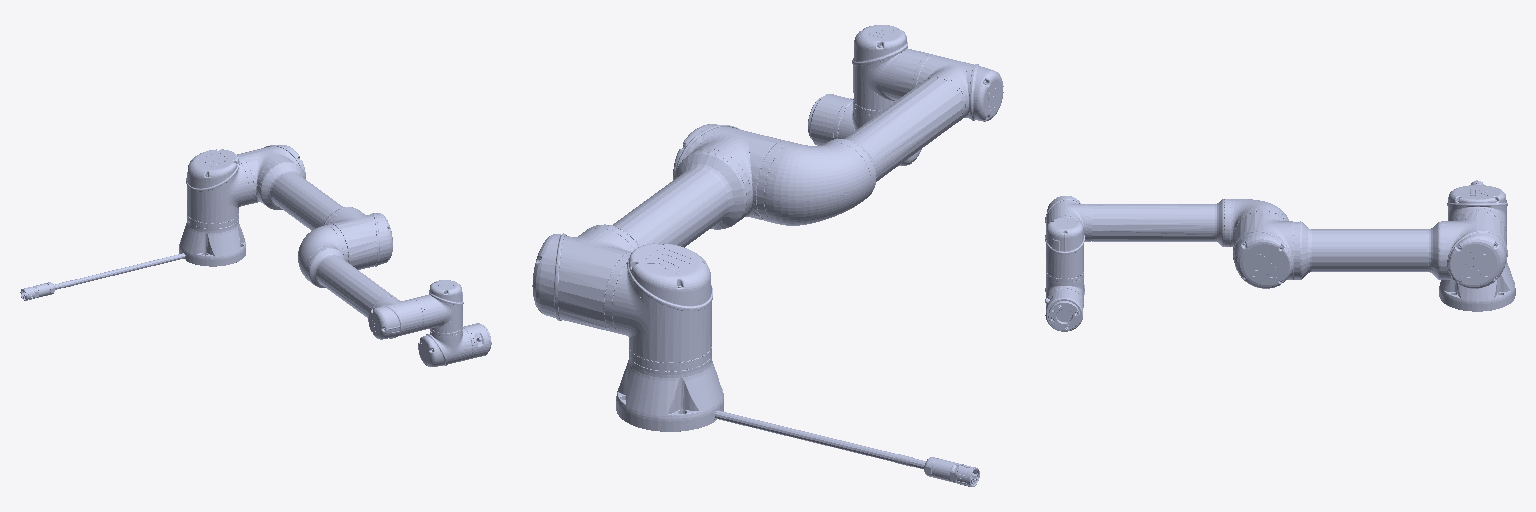
URDF robot description (e-Series_UR5e):
<?xml version="1.0" encoding="utf-8"?>
<!-- This URDF was automatically created by SolidWorks to URDF Exporter! Originally created by [author] ([email redacted]) 
     Commit Version: 1.6.0-4-g7f85cfe  Build Version: 1.6.7995.38578
     For more information, please see http://wiki.ros.org/sw_urdf_exporter -->
<robot
  name="e-Series_UR5e">
  <link
    name="base_link">
    <inertial>
      <origin
        xyz="-0.0382835893779394 1.4258737995377E-05 0.0563056611115651"
        rpy="0 0 0" />
      <mass
        value="0.766524257023776" />
      <inertia
        ixx="0.00125261061098738"
        ixy="8.6453222918811E-08"
        ixz="-2.38534337560383E-05"
        iyy="0.00169283480154227"
        iyz="5.66384524049433E-07"
        izz="0.00208131132900855" />
    </inertial>
    <visual>
      <origin
        xyz="0 0 0"
        rpy="0 0 0" />
      <geometry>
        <mesh
          filename="package://e-Series_UR5e/meshes/base_link.STL" />
      </geometry>
      <material
        name="">
        <color
          rgba="0.792156862745098 0.819607843137255 0.933333333333333 1" />
      </material>
    </visual>
    <collision>
      <origin
        xyz="0 0 0"
        rpy="0 0 0" />
      <geometry>
        <mesh
          filename="package://e-Series_UR5e/meshes/base_link.STL" />
      </geometry>
    </collision>
  </link>
  <link
    name="link_1">
    <inertial>
      <origin
        xyz="-4.03585293370935E-07 -0.01091081401271 0.0648788846793565"
        rpy="0 0 0" />
      <mass
        value="1.60777403315694" />
      <inertia
        ixx="0.0039244708802927"
        ixy="-7.56848409825835E-08"
        ixz="-4.19930606347928E-08"
        iyy="0.00344767395419422"
        iyz="9.48081150049484E-05"
        izz="0.00334247367530209" />
    </inertial>
    <visual>
      <origin
        xyz="0 0 0"
        rpy="0 0 0" />
      <geometry>
        <mesh
          filename="package://e-Series_UR5e/meshes/link_1.STL" />
      </geometry>
      <material
        name="">
        <color
          rgba="0.792156862745098 0.819607843137255 0.933333333333333 1" />
      </material>
    </visual>
    <collision>
      <origin
        xyz="0 0 0"
        rpy="0 0 0" />
      <geometry>
        <mesh
          filename="package://e-Series_UR5e/meshes/link_1.STL" />
      </geometry>
    </collision>
  </link>
  <joint
    name="joint_1"
    type="continuous">
    <origin
      xyz="0 0 0.097739"
      rpy="0 0 1.5708" />
    <parent
      link="base_link" />
    <child
      link="link_1" />
    <axis
      xyz="0 0 1" />
  </joint>
  <link
    name="link_2">
    <inertial>
      <origin
        xyz="-0.2124896632942 -2.7566573778115E-06 0.0644633946441775"
        rpy="0 0 0" />
      <mass
        value="3.48194894188692" />
      <inertia
        ixx="0.00741838999556194"
        ixy="4.28837545739631E-06"
        ixz="7.87302897202672E-07"
        iyy="0.141429657593064"
        iyz="1.83888022877102E-07"
        izz="0.140265210675503" />
    </inertial>
    <visual>
      <origin
        xyz="0 0 0"
        rpy="0 0 0" />
      <geometry>
        <mesh
          filename="package://e-Series_UR5e/meshes/link_2.STL" />
      </geometry>
      <material
        name="">
        <color
          rgba="0.792156862745098 0.819607843137255 0.933333333333333 1" />
      </material>
    </visual>
    <collision>
      <origin
        xyz="0 0 0"
        rpy="0 0 0" />
      <geometry>
        <mesh
          filename="package://e-Series_UR5e/meshes/link_2.STL" />
      </geometry>
    </collision>
  </link>
  <joint
    name="joint_2"
    type="continuous">
    <origin
      xyz="0 -0.073446 0.064761"
      rpy="1.5708 0 0" />
    <parent
      link="link_1" />
    <child
      link="link_2" />
    <axis
      xyz="0 0 1" />
  </joint>
  <link
    name="link_3">
    <inertial>
      <origin
        xyz="-0.148140295327253 -2.18715172337069E-06 -0.0564557902972361"
        rpy="0 0 0" />
      <mass
        value="1.78719922779662" />
      <inertia
        ixx="0.00255793300921316"
        ixy="-2.05988630102689E-07"
        ixz="-0.000972879430463373"
        iyy="0.00975641611968272"
        iyz="-1.10026923503296E-07"
        izz="0.00937973947506879" />
    </inertial>
    <visual>
      <origin
        xyz="0 0 0"
        rpy="0 0 0" />
      <geometry>
        <mesh
          filename="package://e-Series_UR5e/meshes/link_3.STL" />
      </geometry>
      <material
        name="">
        <color
          rgba="0.792156862745098 0.819607843137255 0.933333333333333 1" />
      </material>
    </visual>
    <collision>
      <origin
        xyz="0 0 0"
        rpy="0 0 0" />
      <geometry>
        <mesh
          filename="package://e-Series_UR5e/meshes/link_3.STL" />
      </geometry>
    </collision>
  </link>
  <joint
    name="joint_3"
    type="continuous">
    <origin
      xyz="-0.425 0 0"
      rpy="0 0 0" />
    <parent
      link="link_2" />
    <child
      link="link_3" />
    <axis
      xyz="0 0 1" />
  </joint>
  <link
    name="link_4">
    <inertial>
      <origin
        xyz="-8.00997962902006E-06 0.00254765403459664 0.0415473672594848"
        rpy="0 0 0" />
      <mass
        value="0.658206626839737" />
      <inertia
        ixx="0.00109191688287393"
        ixy="1.19410397079724E-07"
        ixz="2.69565838819593E-07"
        iyy="0.000884746126443946"
        iyz="-2.58942779151137E-05"
        izz="0.000686112647130512" />
    </inertial>
    <visual>
      <origin
        xyz="0 0 0"
        rpy="0 0 0" />
      <geometry>
        <mesh
          filename="package://e-Series_UR5e/meshes/link_4.STL" />
      </geometry>
      <material
        name="">
        <color
          rgba="0.792156862745098 0.819607843137255 0.933333333333333 1" />
      </material>
    </visual>
    <collision>
      <origin
        xyz="0 0 0"
        rpy="0 0 0" />
      <geometry>
        <mesh
          filename="package://e-Series_UR5e/meshes/link_4.STL" />
      </geometry>
    </collision>
  </link>
  <joint
    name="joint_4"
    type="continuous">
    <origin
      xyz="-0.3922 0 0"
      rpy="0 0 0" />
    <parent
      link="link_3" />
    <child
      link="link_4" />
    <axis
      xyz="0 0 1" />
  </joint>
  <link
    name="link_5">
    <inertial>
      <origin
        xyz="5.5481109853428E-05 -0.00311021342395346 0.0781058578879969"
        rpy="0 0 0" />
      <mass
        value="0.538720215182785" />
      <inertia
        ixx="0.000698087208344804"
        ixy="3.21197044276782E-06"
        ixz="-3.29030595085801E-07"
        iyy="0.000491809143471577"
        iyz="7.55035125846898E-06"
        izz="0.000601190452282659" />
    </inertial>
    <visual>
      <origin
        xyz="0 0 0"
        rpy="0 0 0" />
      <geometry>
        <mesh
          filename="package://e-Series_UR5e/meshes/link_5.STL" />
      </geometry>
      <material
        name="">
        <color
          rgba="0.792156862745098 0.819607843137255 0.933333333333333 1" />
      </material>
    </visual>
    <collision>
      <origin
        xyz="0 0 0"
        rpy="0 0 0" />
      <geometry>
        <mesh
          filename="package://e-Series_UR5e/meshes/link_5.STL" />
      </geometry>
    </collision>
  </link>
  <joint
    name="joint_5"
    type="continuous">
    <origin
      xyz="0 -0.014043 0.059854"
      rpy="1.5708 0 0" />
    <parent
      link="link_4" />
    <child
      link="link_5" />
    <axis
      xyz="0 0 1" />
  </joint>
  <link
    name="tool0">
    <inertial>
      <origin
        xyz="-2.20230284009304E-09 1.80038318347009E-05 0.025011728835113"
        rpy="0 0 0" />
      <mass
        value="0.218934443014081" />
      <inertia
        ixx="0.000120675783994229"
        ixy="2.16459497435196E-09"
        ixz="-4.49238942899841E-13"
        iyy="0.000121384699989552"
        iyz="1.61072230595418E-07"
        izz="0.000150863873550317" />
    </inertial>
    <visual>
      <origin
        xyz="0 0 0"
        rpy="0 0 0" />
      <geometry>
        <mesh
          filename="package://e-Series_UR5e/meshes/tool0.STL" />
      </geometry>
      <material
        name="">
        <color
          rgba="0.792156862745098 0.819607843137255 0.933333333333333 1" />
      </material>
    </visual>
    <collision>
      <origin
        xyz="0 0 0"
        rpy="0 0 0" />
      <geometry>
        <mesh
          filename="package://e-Series_UR5e/meshes/tool0.STL" />
      </geometry>
    </collision>
  </link>
  <joint
    name="joint_6"
    type="continuous">
    <origin
      xyz="-0.00069744 0.046307 0.085657"
      rpy="1.5708 -1.0646 -3.1265" />
    <parent
      link="link_5" />
    <child
      link="tool0" />
    <axis
      xyz="0 0 -1" />
  </joint>
</robot>

--- What the picture shows (computed from the rendered views, not written in the file) ---
Views: 3 orthographic renders of the robot side by side, from view 1: azimuth 30°, elevation 25°; view 2: azimuth 150°, elevation 25°; view 3: azimuth 270°, elevation 25°.
Model e-Series_UR5e with 7 links and 6 joints (6 continuous), rooted at base_link, posed every joint at zero.
Visible links, largest first — view 1: link_2, link_3, link_1, base_link, link_4, link_5, tool0; view 2: link_2, link_3, link_1, base_link, link_4, tool0, link_5; view 3: link_2, link_3, link_4, base_link, link_1, tool0, link_5.
Link boxes in pixels (<box>): link_2: <box>237,145,392,269</box>; link_3: <box>298,224,423,339</box>; link_1: <box>186,149,253,222</box>; base_link: <box>20,214,245,300</box>; link_4: <box>413,280,463,332</box>; link_5: <box>418,328,471,366</box>; tool0: <box>463,323,491,358</box>; link_2: <box>532,124,784,331</box>; link_3: <box>756,55,1003,225</box>; link_1: <box>603,243,712,361</box>; base_link: <box>616,347,979,486</box>; link_4: <box>852,25,936,110</box>; tool0: <box>808,94,852,145</box>; link_5: <box>838,100,921,165</box>; link_2: <box>1233,211,1507,288</box>; link_3: <box>1045,196,1288,246</box>; link_4: <box>1045,216,1084,278</box>; base_link: <box>1439,180,1515,311</box>; link_1: <box>1447,185,1507,244</box>; tool0: <box>1045,288,1083,331</box>; link_5: <box>1045,272,1084,303</box>.
Bounding box of the posed robot: 0.7248 × 0.9335 × 0.2395 m (x, y, z).
Meshes: 7 distinct files referenced, 7 mesh visuals loaded (7 binary STL).